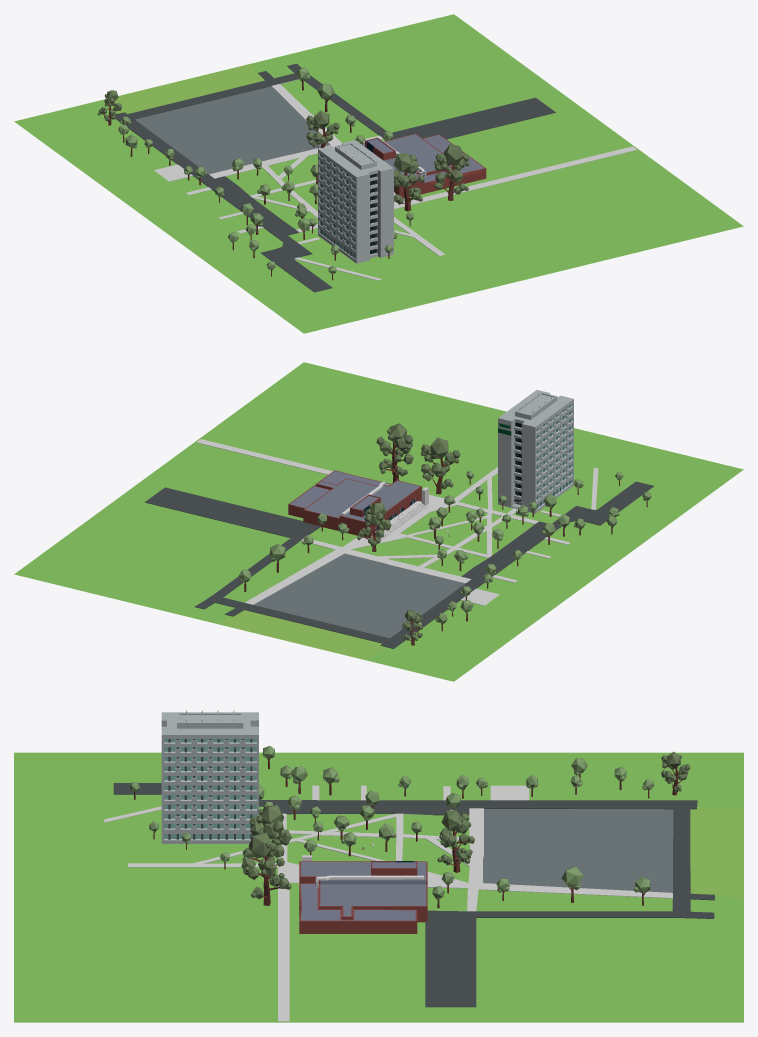
The model's file is MS_AGH.fbx.
The picture shows the model from 3 angles, top to bottom: view 1: azimuth 30°, elevation 25°; view 2: azimuth 150°, elevation 25°; view 3: azimuth 270°, elevation 25°; orthographic projection. The views are drawn at different scales.
Visible parts, largest first — view 1: Grass, RoadLayout, Cube, Cube.003, Cube.011, Cube.009, Cube.019; view 2: Grass, RoadLayout, Cube, Cube.003, Cube.011, Cube.009, Cube.019; view 3: Grass, RoadLayout, Cube, Cube.003, Cube.011, Cube.019, Cube.009, Cube.017, Cube.016.
Part boxes in pixels (x1,y1,x2,y2): Grass: [14, 14, 743, 333]; RoadLayout: [115, 63, 636, 292]; Cube: [318, 140, 393, 263]; Cube.003: [361, 133, 486, 198]; Cube.011: [434, 144, 469, 200]; Cube.009: [393, 153, 424, 211]; Cube.019: [306, 110, 339, 148]; Grass: [14, 362, 743, 681]; RoadLayout: [145, 439, 653, 648]; Cube: [498, 390, 573, 513]; Cube.003: [288, 470, 421, 537]; Cube.011: [376, 423, 413, 482]; Cube.009: [420, 437, 460, 494]; Cube.019: [357, 502, 391, 551]; Grass: [14, 752, 743, 1022]; RoadLayout: [104, 783, 714, 1021]; Cube: [161, 712, 258, 843]; Cube.003: [299, 861, 427, 933]; Cube.011: [241, 833, 291, 905]; Cube.019: [437, 810, 474, 872]; Cube.009: [242, 805, 291, 879]; Cube.017: [661, 751, 690, 795]; Cube.016: [316, 875, 424, 886].
Bounding box in the file's own units: 24570 × 5259 × 28054.
